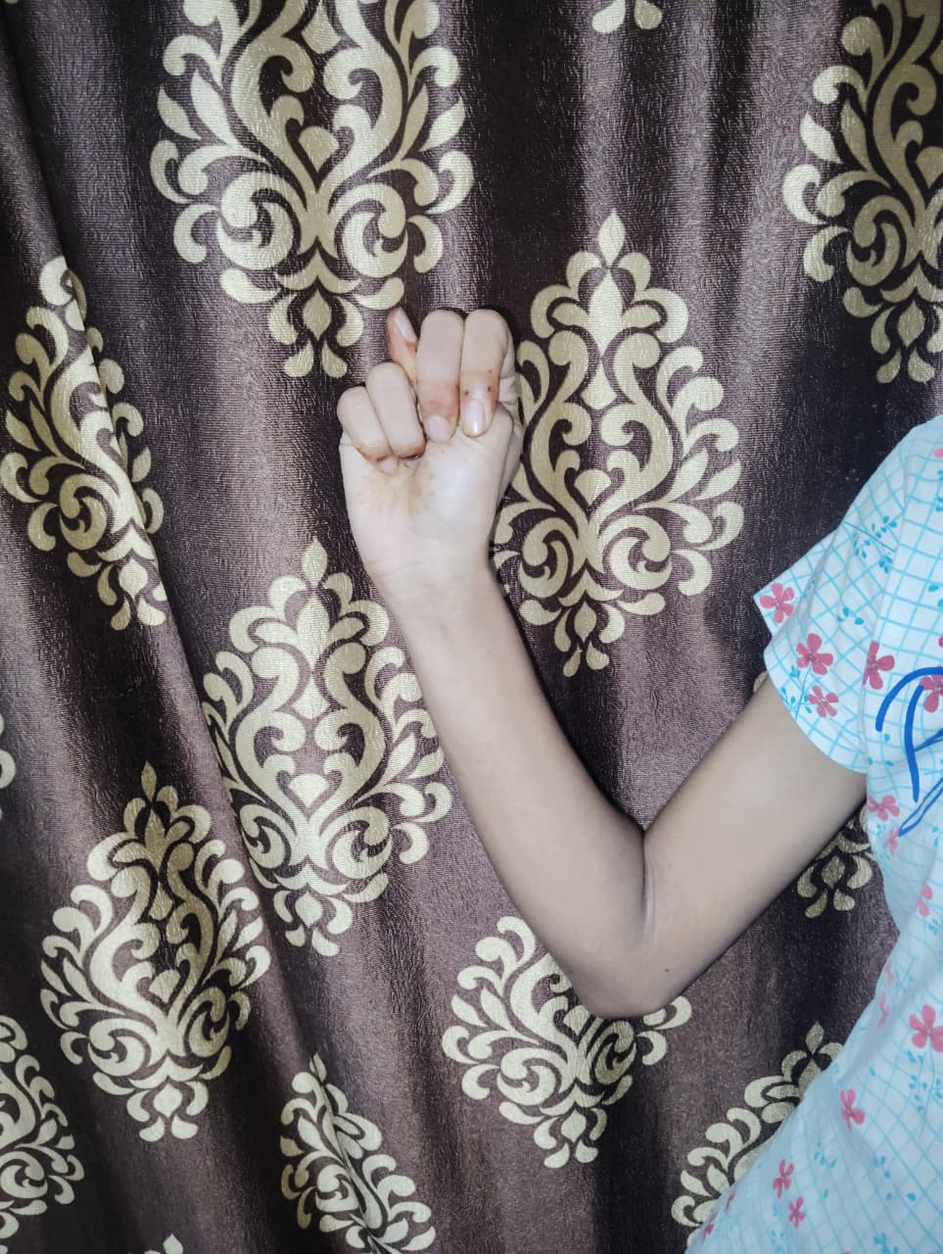N: (337, 307, 523, 573)
